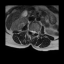CCS_normal: (32, 28, 33, 36)
LFS_normal: (35, 29, 37, 35)
LLS_normal: (33, 28, 35, 34)
RFS_normal: (29, 27, 31, 33)
RLS_normal: (31, 28, 32, 34)
